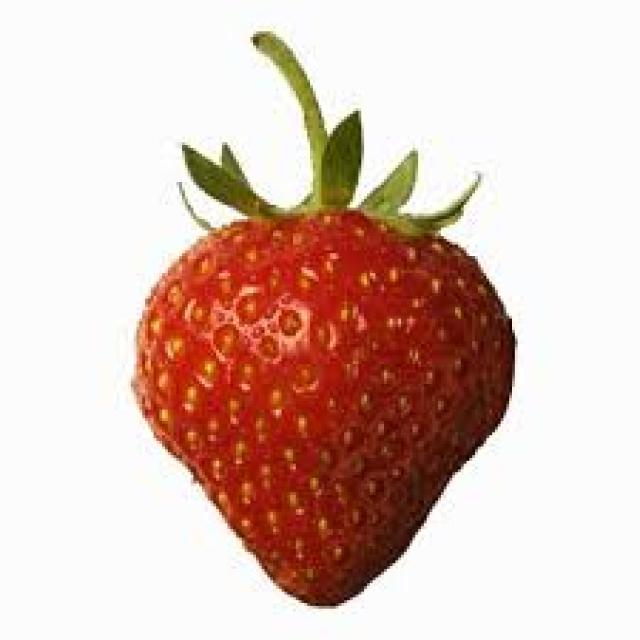strawberry: (117, 3, 530, 616)
